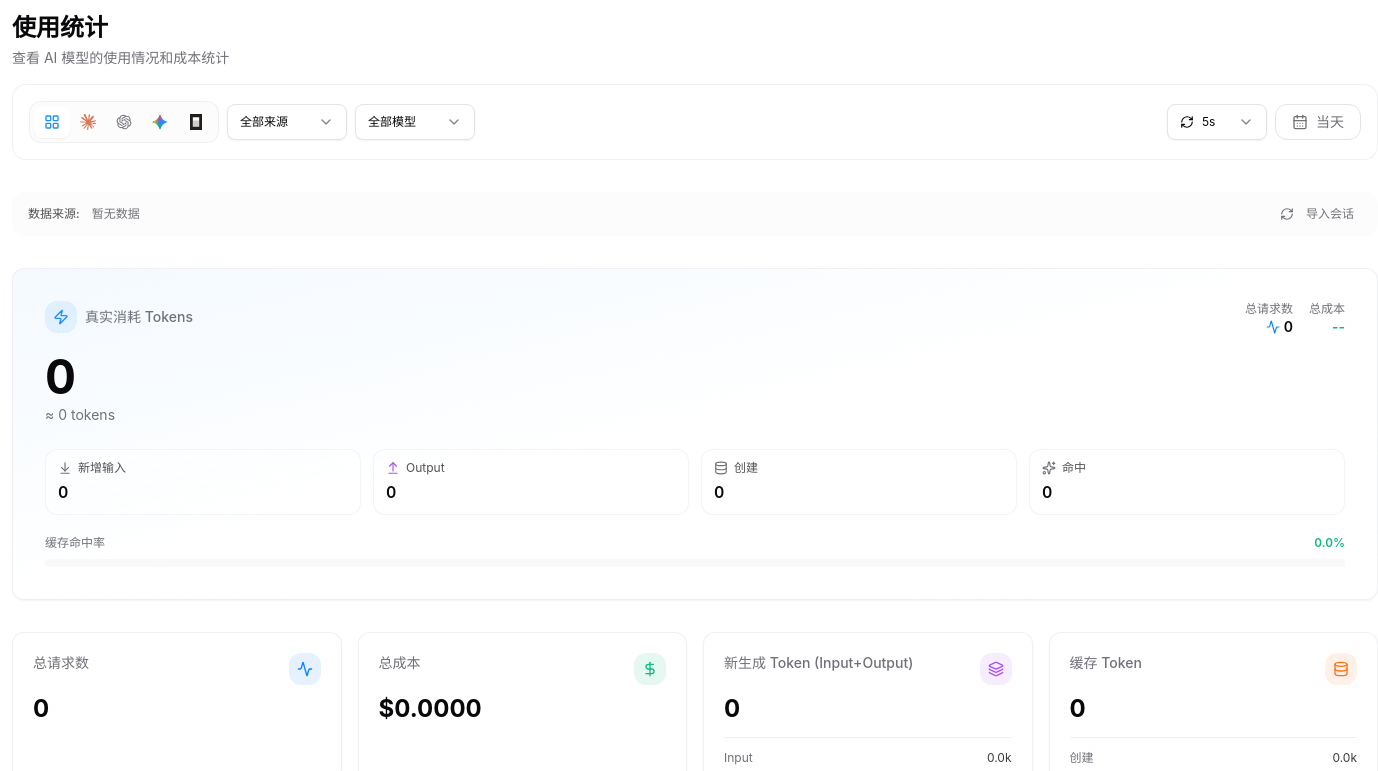
UsageDashboard › offers Off and 5s options in the refresh interval menu
Click the dropdown named "刷新间隔".
click(1217, 122)  # box [1167, 104, 1267, 140]
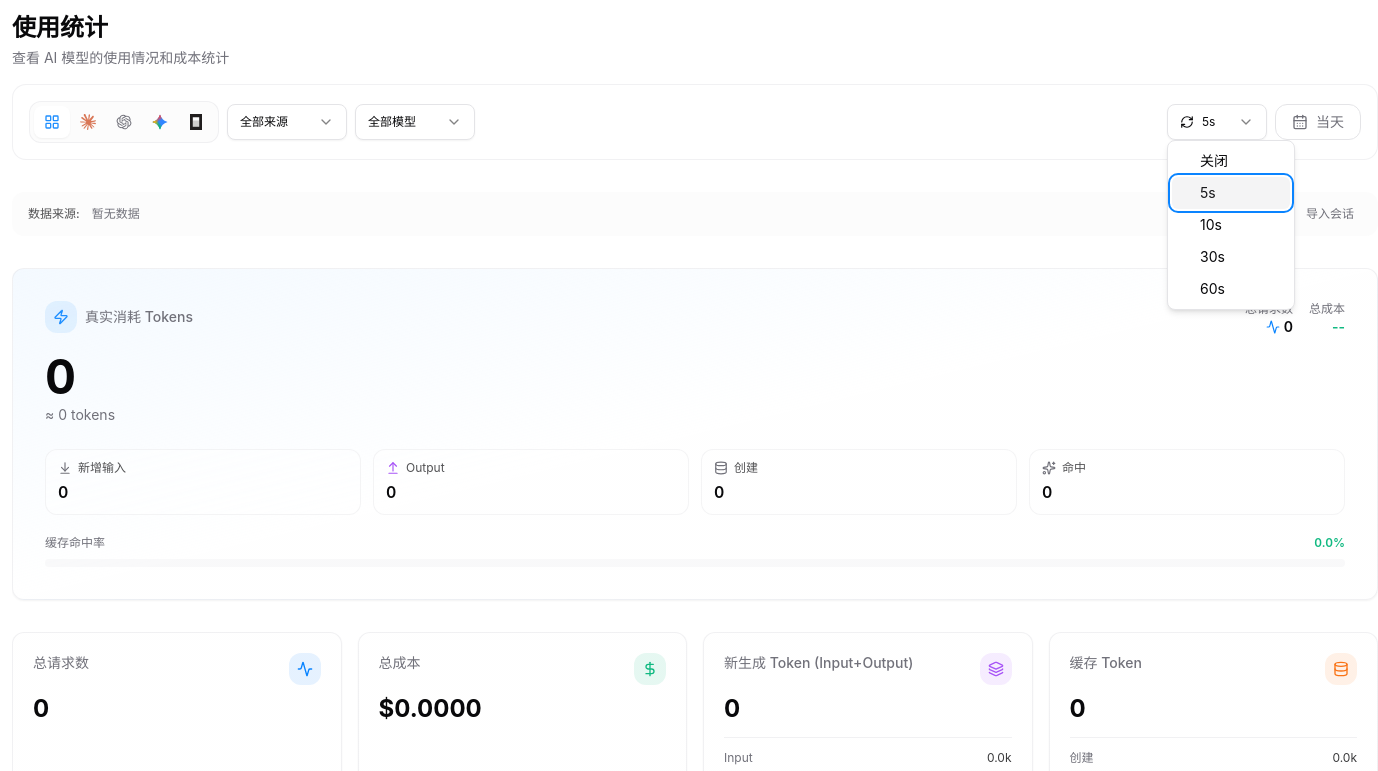
Check: the option "关闭" is shown, box [1200, 152, 1228, 169]
Check: the option "5s" is shown, box [1172, 177, 1290, 209]
